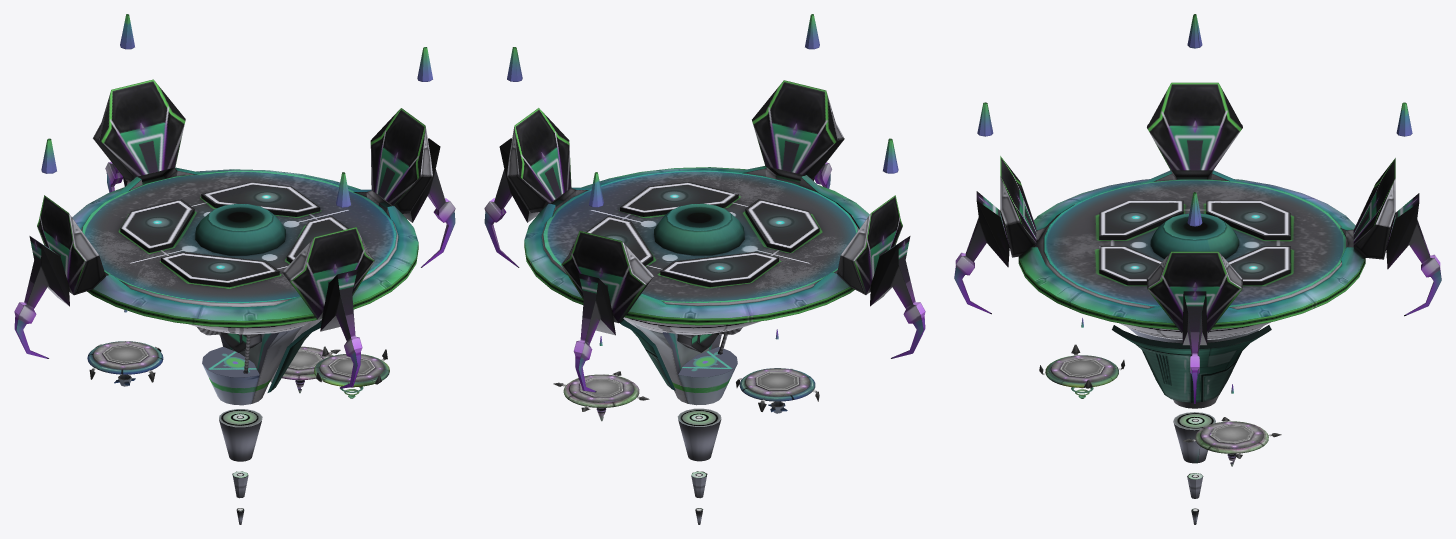
3 renders of one model, left to right at view 1: azimuth 30°, elevation 25°; view 2: azimuth 150°, elevation 25°; view 3: azimuth 270°, elevation 25°, orthographic. The views are drawn at different scales.
Visible parts, largest first — view 1: Base_Material #7_0, Shields_Material #7_0, Border_Material #7_0, Middle Base_Material #7_0, Object001_Material #5_0, Object003_Material #4_0, 3rd Lowest Part_Material #7_0, Floating Lamps_Material #7_0, Object002_Material #6_0, Middle Extrude_Material #7_0; view 2: Base_Material #7_0, Shields_Material #7_0, Border_Material #7_0, Middle Base_Material #7_0, Object001_Material #5_0, Object002_Material #6_0, 3rd Lowest Part_Material #7_0, Floating Lamps_Material #7_0, Middle Extrude_Material #7_0; view 3: Base_Material #7_0, Shields_Material #7_0, Border_Material #7_0, Middle Extrude_Material #7_0, Object003_Material #4_0, Object002_Material #6_0, Floating Lamps_Material #7_0, 3rd Lowest Part_Material #7_0, Middle Base_Material #7_0.
Part boxes in pixels (x1,y1,x2,y2): Base_Material #7_0: (81,170,398,334); Shields_Material #7_0: (14,79,455,388); Border_Material #7_0: (72,167,418,327); Middle Base_Material #7_0: (197,326,302,405); Object001_Material #5_0: (87,310,163,386); Object003_Material #4_0: (314,346,389,398); 3rd Lowest Part_Material #7_0: (219,409,262,461); Floating Lamps_Material #7_0: (41,14,432,207); Object002_Material #6_0: (282,346,340,393); Middle Extrude_Material #7_0: (267,318,321,392); Base_Material #7_0: (541,170,858,335); Shields_Material #7_0: (484,80,925,392); Border_Material #7_0: (524,166,869,325); Middle Base_Material #7_0: (632,322,742,405); Object001_Material #5_0: (736,329,819,413); Object002_Material #6_0: (553,336,649,421); 3rd Lowest Part_Material #7_0: (677,408,721,461); Floating Lamps_Material #7_0: (507,14,898,207); Middle Extrude_Material #7_0: (619,318,675,390); Base_Material #7_0: (1036,179,1347,339); Shields_Material #7_0: (954,82,1441,403); Border_Material #7_0: (1018,170,1365,329); Middle Extrude_Material #7_0: (1112,325,1271,402); Object003_Material #4_0: (1039,318,1124,398); Object002_Material #6_0: (1183,384,1281,466); Floating Lamps_Material #7_0: (977,14,1412,226); 3rd Lowest Part_Material #7_0: (1173,412,1215,463); Middle Base_Material #7_0: (1129,327,1262,408).
Bounding box in the file's own units: 1274 × 1197 × 1262.
Materials: 4 (4 with a texture image).
